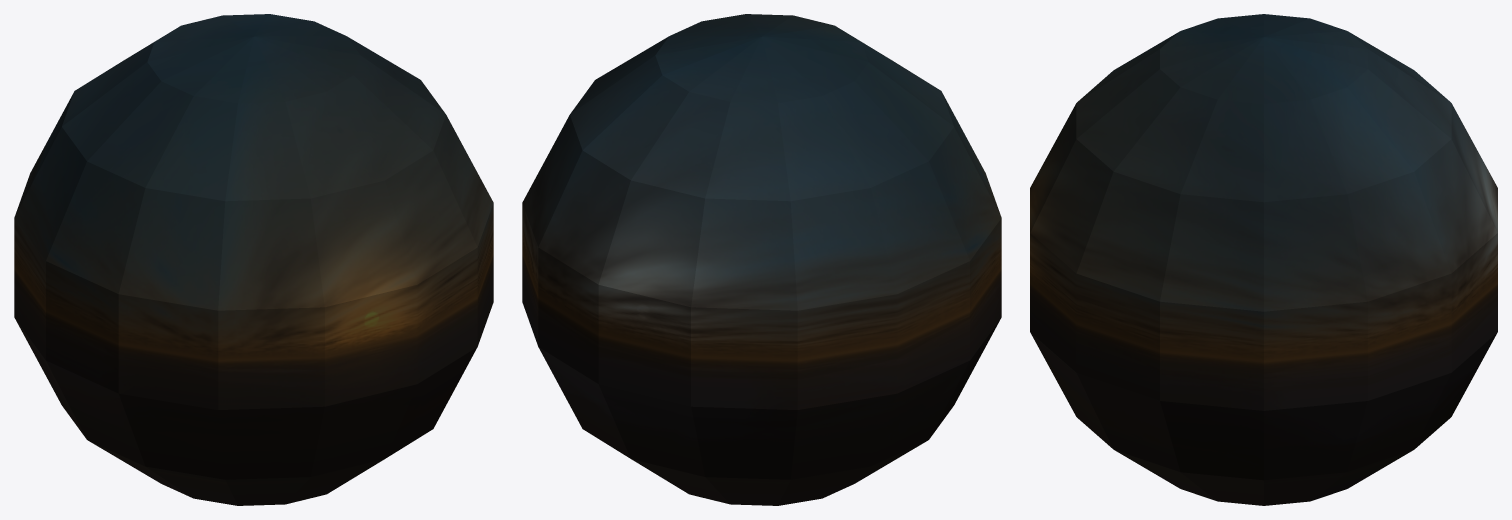
Rendered from SkySphere.obj.
The picture shows the model from 3 angles, left to right: view 1: azimuth 30°, elevation 25°; view 2: azimuth 150°, elevation 25°; view 3: azimuth 270°, elevation 25°; orthographic projection.
Parts seen in each view (by area): view 1: Sky-Sphere; view 2: Sky-Sphere; view 3: Sky-Sphere.
Part boxes in pixels (<box>): Sky-Sphere: <box>14,14,493,505</box>; Sky-Sphere: <box>522,14,1001,505</box>; Sky-Sphere: <box>1030,14,1497,505</box>.
Bounding box in the file's own units: 584957 × 600000 × 570291.
